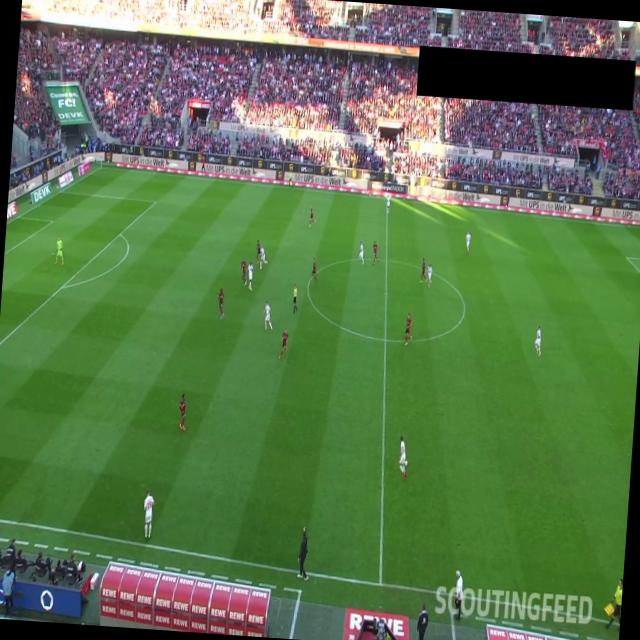goalkeeper: (54, 236, 66, 266)
player: (141, 488, 155, 538), (396, 434, 409, 479), (176, 392, 188, 432), (260, 300, 274, 332), (278, 327, 289, 360), (216, 287, 226, 319), (532, 324, 542, 356), (403, 312, 412, 345), (258, 242, 268, 270), (245, 260, 254, 290), (254, 238, 262, 266), (239, 258, 247, 284), (310, 256, 318, 282), (464, 230, 472, 255), (358, 240, 366, 265), (308, 205, 316, 228), (384, 192, 392, 215), (419, 256, 426, 282), (426, 263, 433, 288), (372, 240, 379, 264)
referee: (604, 576, 623, 630), (291, 283, 299, 313), (288, 169, 294, 187)
